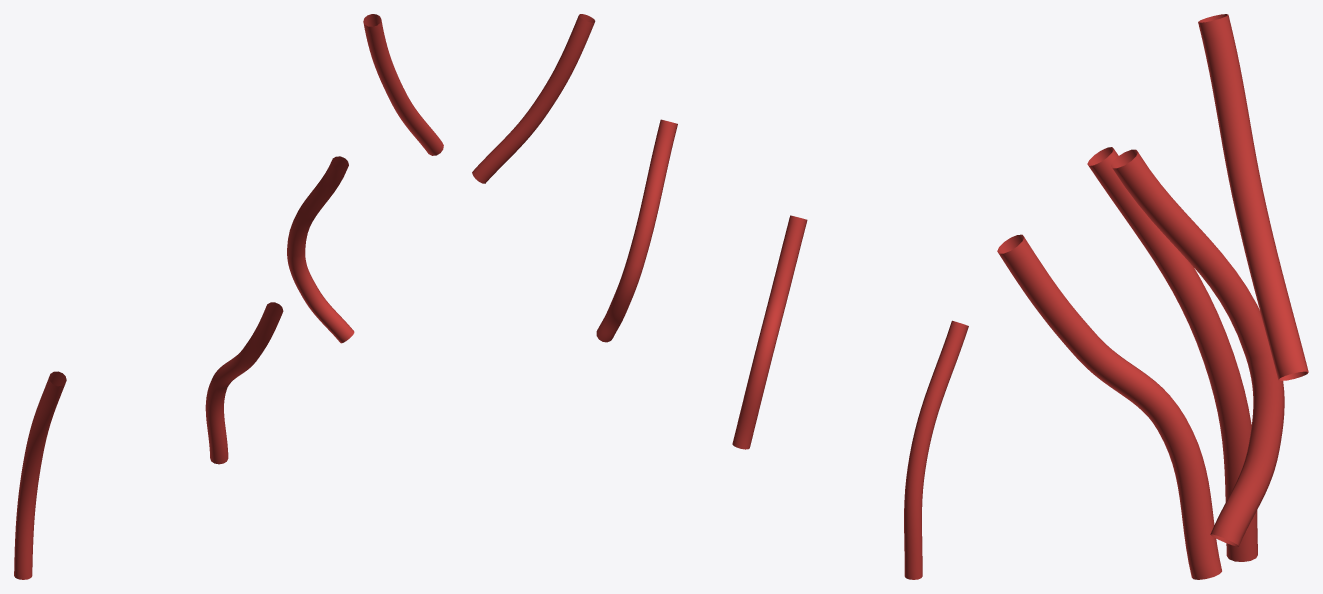
The picture shows the model from 3 angles, left to right: view 1: azimuth 30°, elevation 25°; view 2: azimuth 150°, elevation 25°; view 3: azimuth 270°, elevation 25°; orthographic projection. The views are drawn at different scales.
Visible parts, largest first — view 1: 左侧趾足底总动脉; view 2: 左侧趾足底总动脉; view 3: 左侧趾足底总动脉.
Boxes of the visible parts, bbox=[...] form: 左侧趾足底总动脉: bbox=[14, 14, 443, 579]; 左侧趾足底总动脉: bbox=[472, 14, 968, 579]; 左侧趾足底总动脉: bbox=[997, 14, 1308, 579].
Bounding box in the file's own units: 0.0584 × 0.0601 × 0.0205.
